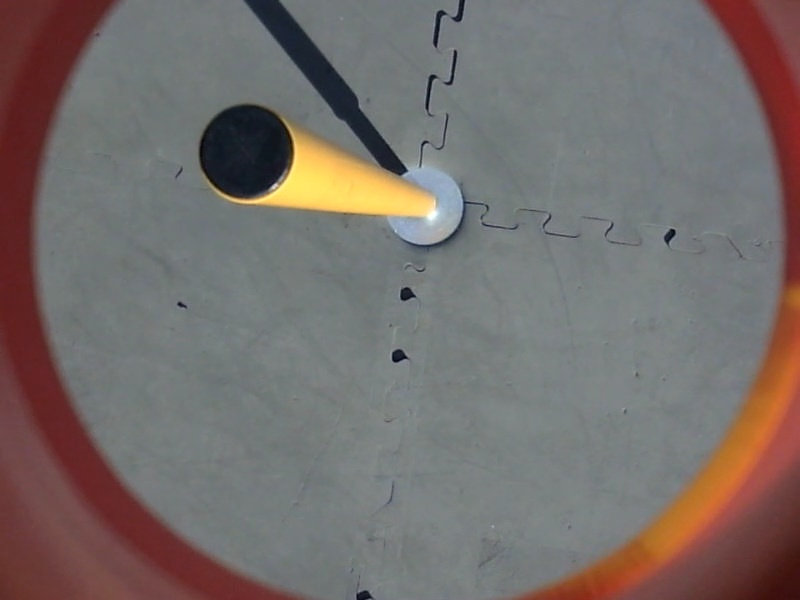tip: (196, 101, 302, 208)
